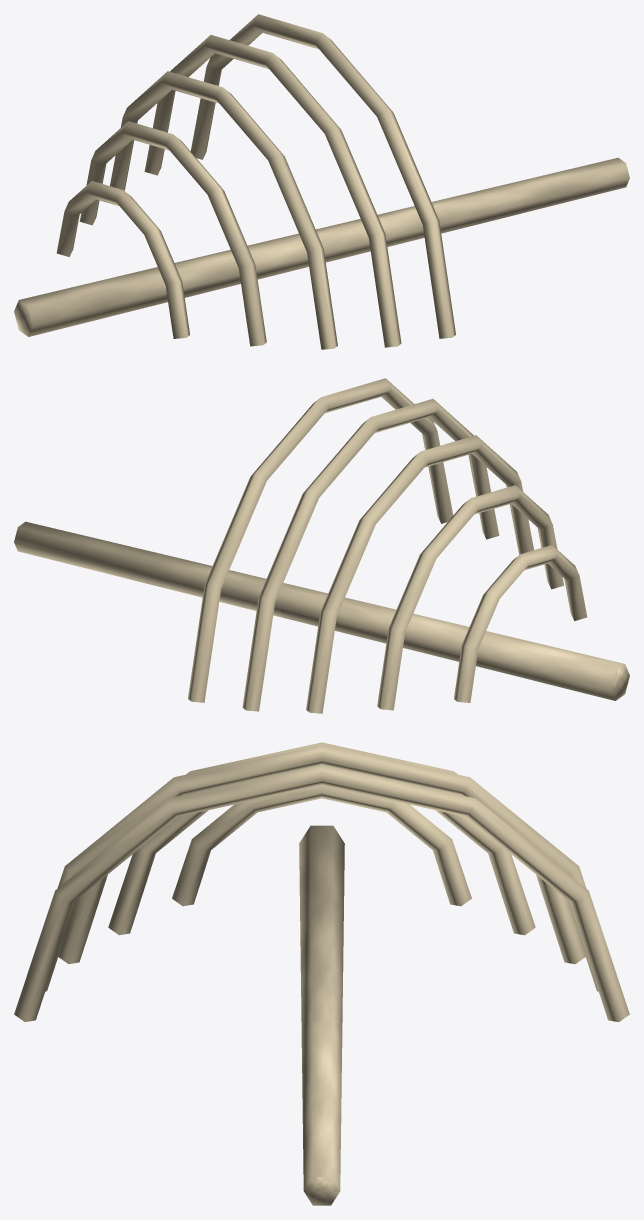
The model's file is Bones_Scatter_2_LOD1.gltf.
3 renders of one model, top to bottom at view 1: azimuth 30°, elevation 25°; view 2: azimuth 150°, elevation 25°; view 3: azimuth 270°, elevation 25°, orthographic. The views are drawn at different scales.
Parts seen in each view (by area): view 1: Bones_Scatter_2_LOD1; view 2: Bones_Scatter_2_LOD1; view 3: Bones_Scatter_2_LOD1.
Part boxes in pixels (box(x1,y1,x2,y2)): Bones_Scatter_2_LOD1: box(14, 14, 629, 349); Bones_Scatter_2_LOD1: box(14, 378, 629, 713); Bones_Scatter_2_LOD1: box(14, 742, 629, 1205).
Bounding box in the file's own units: 1.8 × 0.6533 × 1.35.
Materials: 1 (1 with a texture image).
